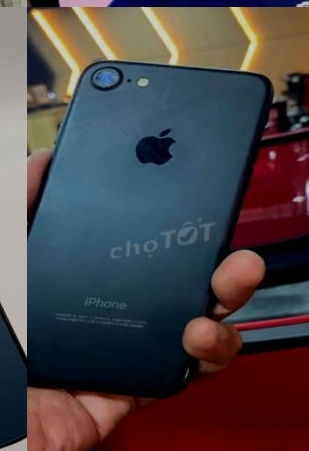scratch: (81, 54, 131, 97)
